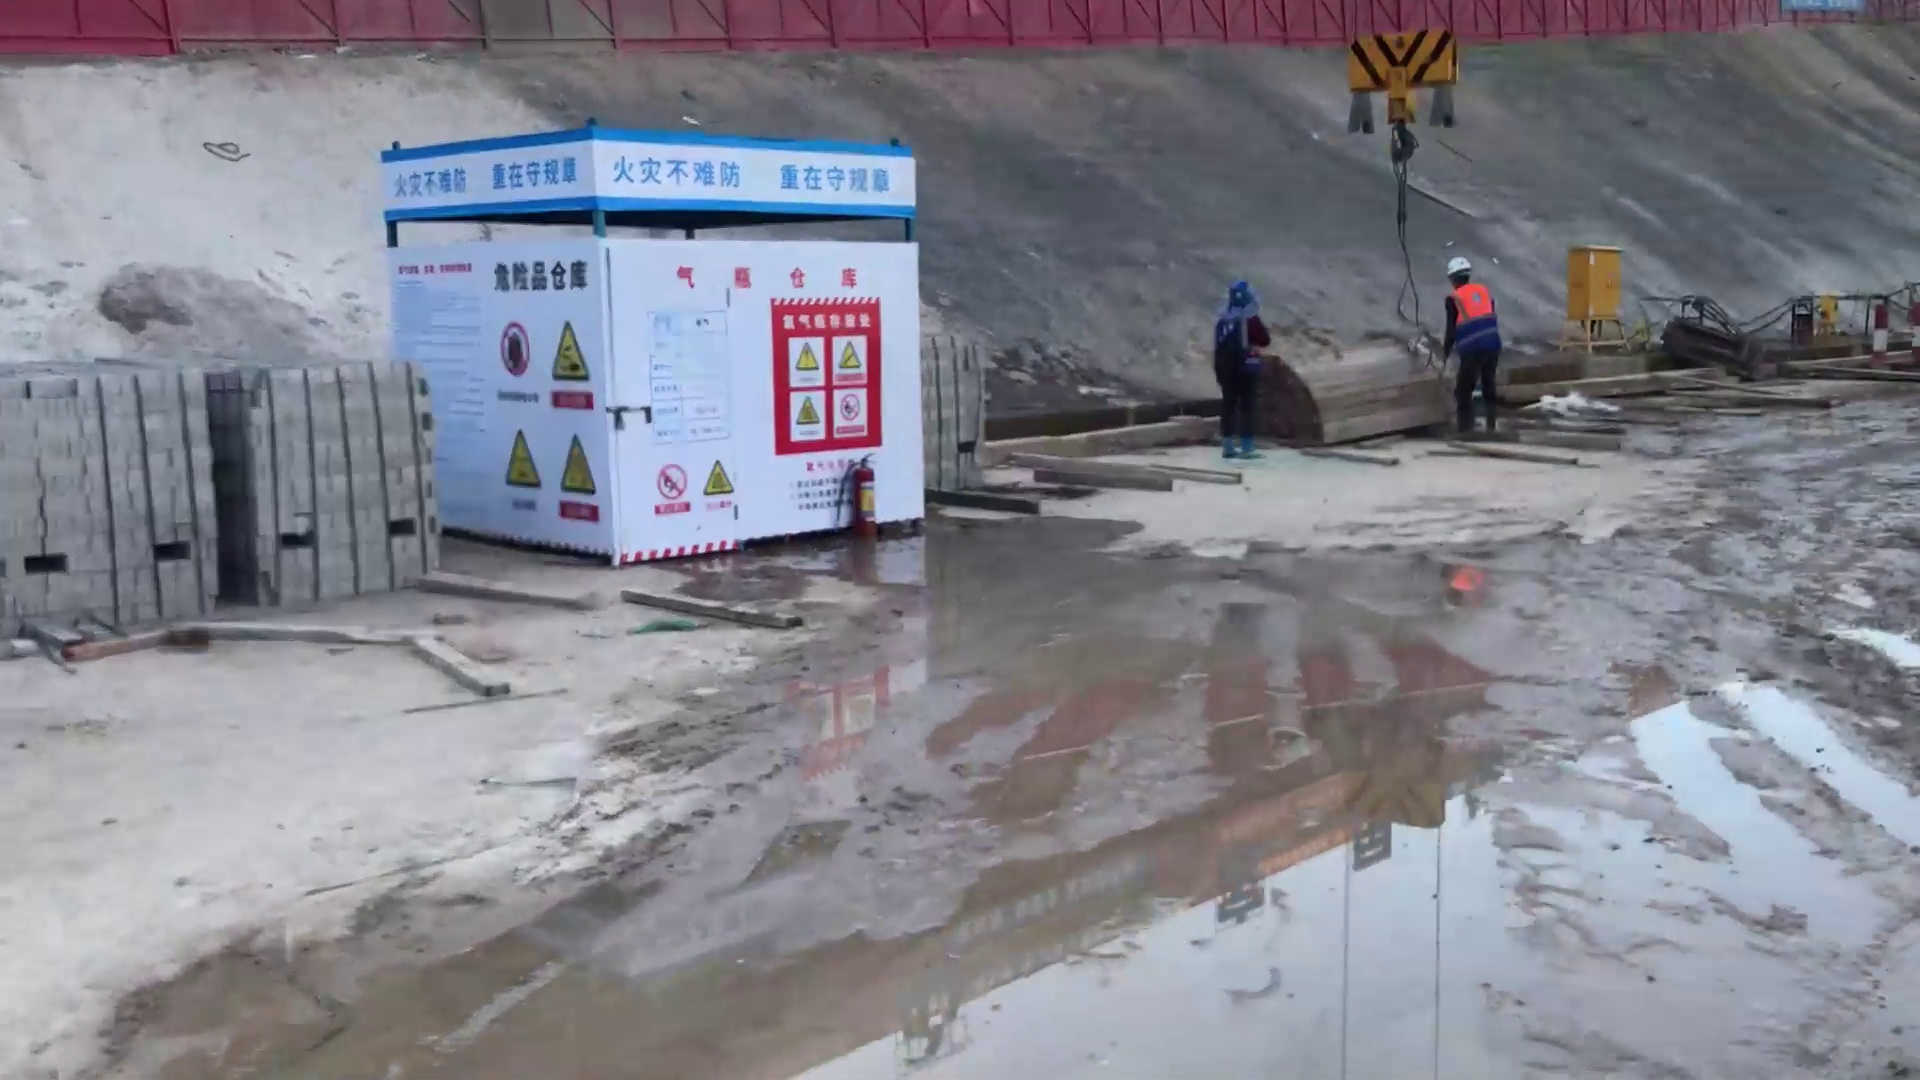brick: (1, 363, 230, 629), (228, 344, 443, 596), (917, 322, 992, 516)
ebox: (1534, 226, 1652, 367)
helmet: (1224, 274, 1261, 312), (1448, 257, 1472, 287)
hook: (1334, 26, 1511, 159)
person: (1440, 256, 1508, 439), (1214, 278, 1268, 458)
slogan: (582, 129, 975, 259), (491, 250, 640, 552), (737, 300, 899, 459), (367, 146, 592, 239), (622, 435, 754, 546)
vest: (1445, 286, 1495, 353), (1215, 313, 1256, 385)
wood: (1285, 342, 1421, 455)
